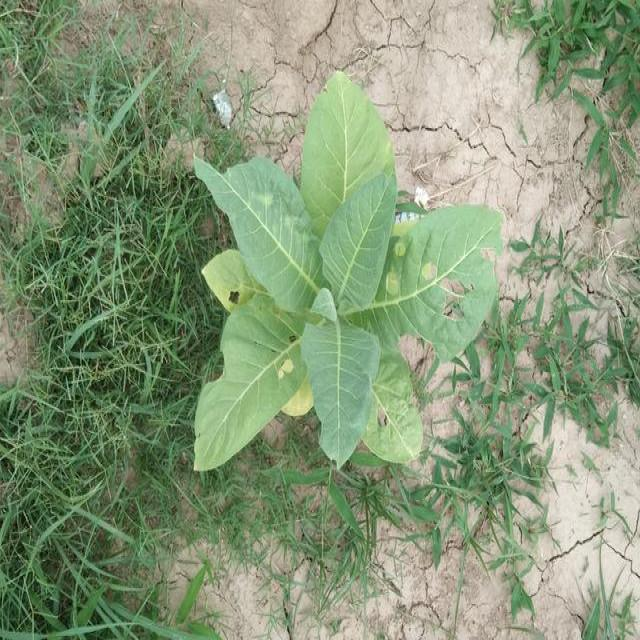crop: (186, 66, 507, 486)
